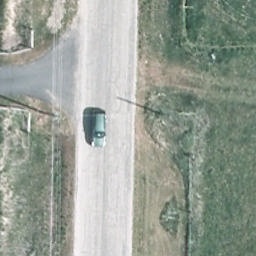car: (91, 110, 106, 147)
